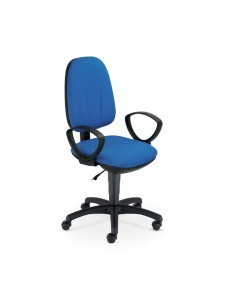chair: (61, 57, 163, 243)
